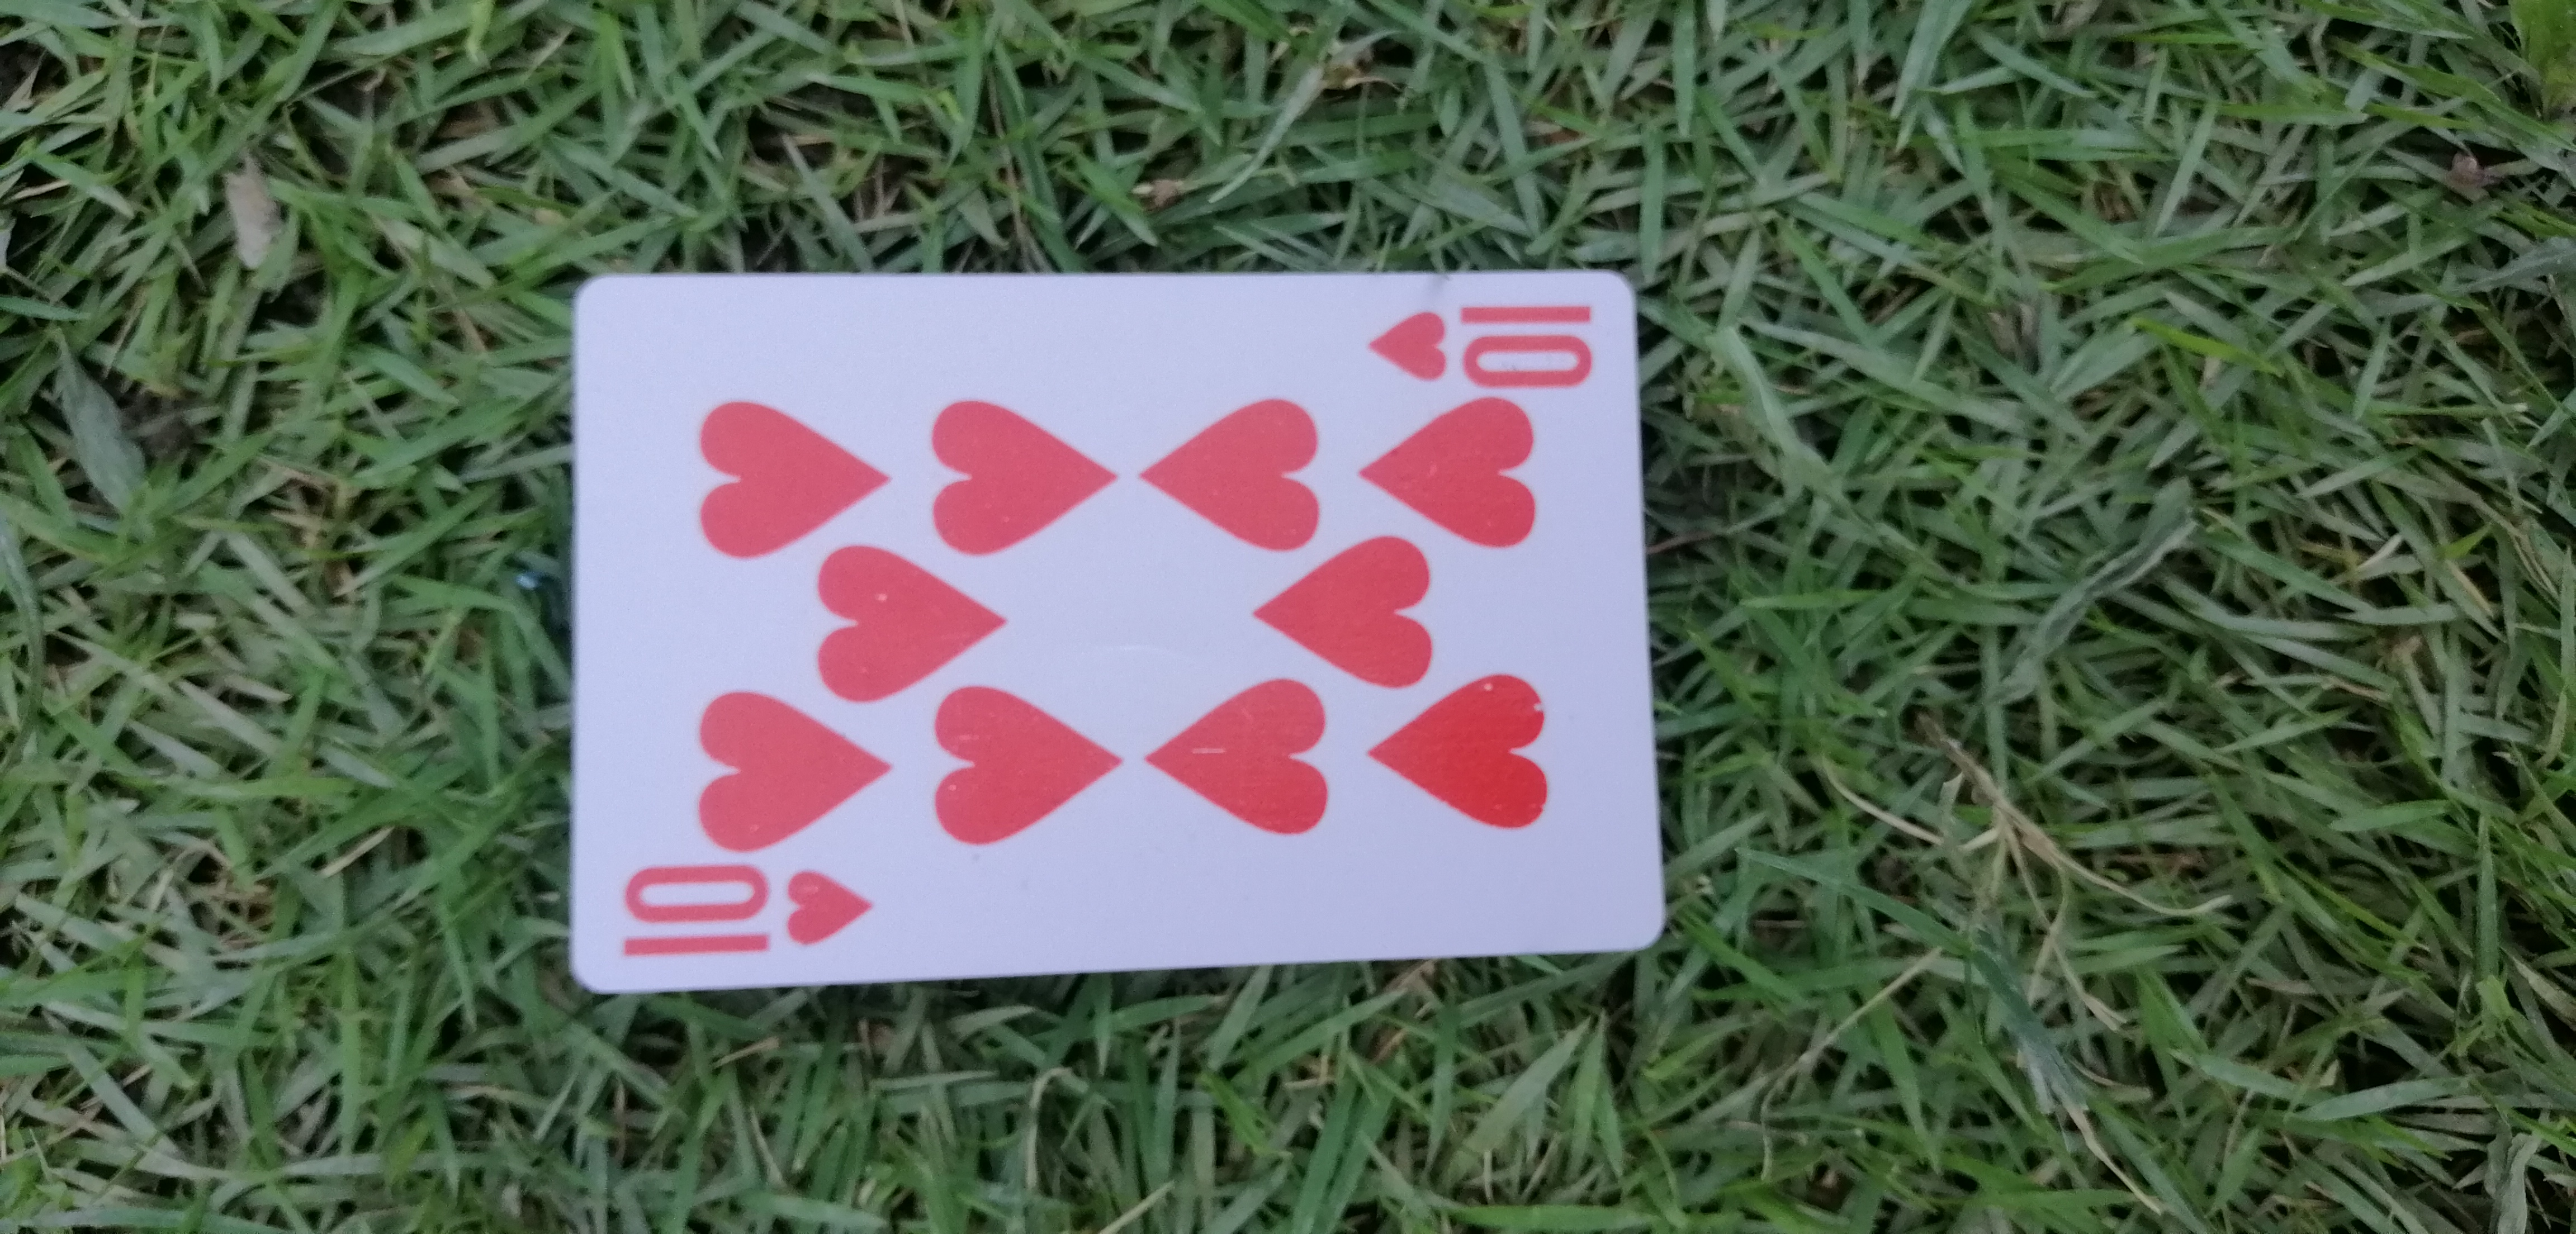ten: (532, 238, 1687, 976)
